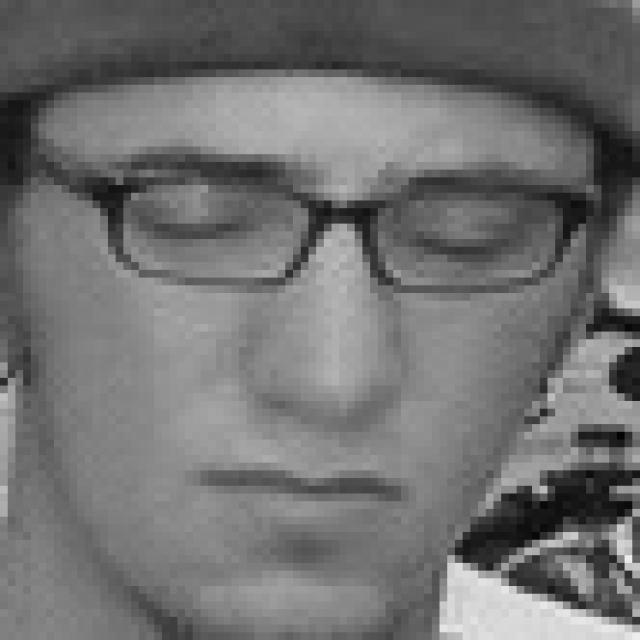real: (23, 74, 599, 640), (111, 174, 555, 292)
